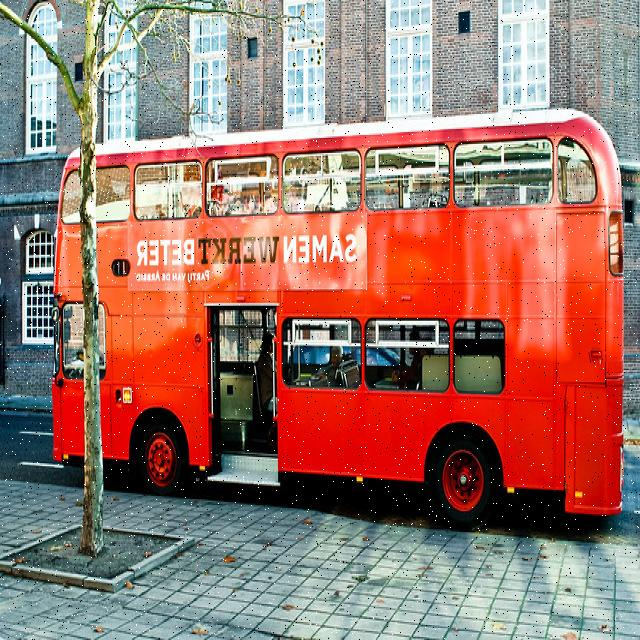Bus: (57, 106, 627, 518)
